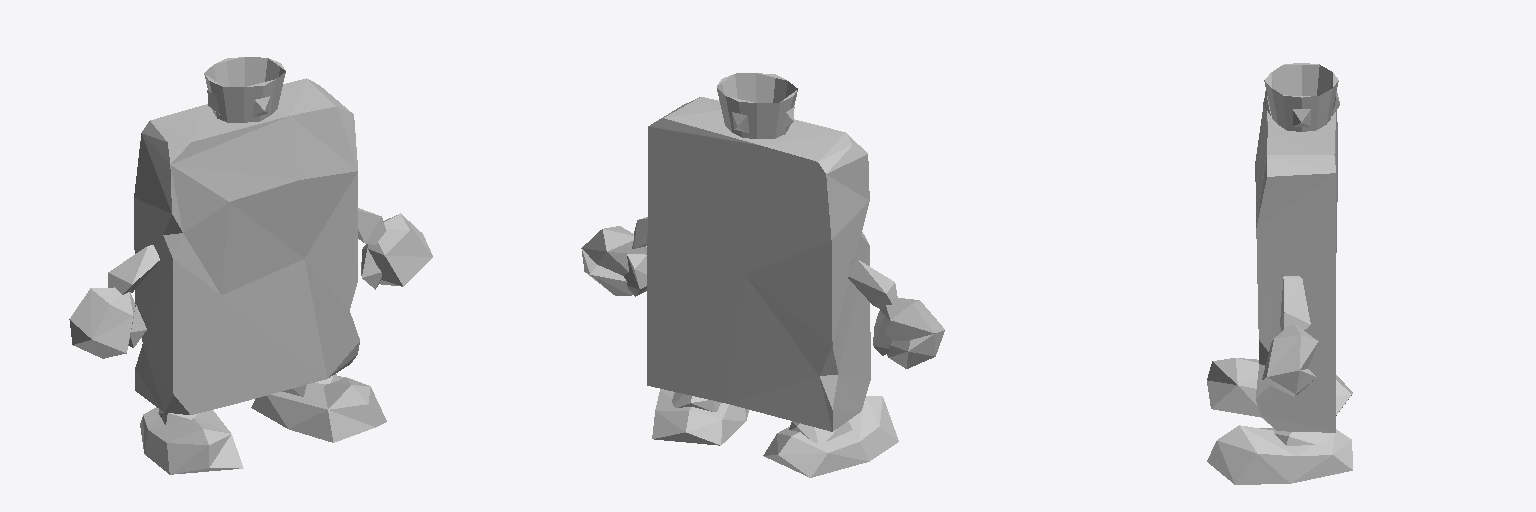
Rendered from BattanKing_Model.obj.
The picture shows the model from 3 angles: view 1: azimuth 30°, elevation 25°; view 2: azimuth 150°, elevation 25°; view 3: azimuth 270°, elevation 25°; orthographic projection.
Parts seen in each view (by area): view 1: skl_root, arm_r, leg_r, arm_l, leg_l; view 2: skl_root, leg_r, arm_r, arm_l, leg_l; view 3: skl_root, leg_l, leg_r, arm_l.
Part boxes in pixels (x1,y1,x2,y2): skl_root: (69, 57, 432, 474); arm_r: (70, 246, 159, 358); leg_r: (140, 409, 243, 474); arm_l: (358, 208, 432, 289); leg_l: (289, 375, 375, 442); skl_root: (581, 73, 944, 477); leg_r: (763, 398, 898, 477); arm_r: (848, 259, 944, 368); arm_l: (582, 217, 647, 295); leg_l: (652, 389, 748, 445); skl_root: (1207, 63, 1352, 484); leg_l: (1217, 425, 1352, 483); leg_r: (1207, 358, 1350, 417); arm_l: (1262, 276, 1318, 396).
Bounding box in the file's own units: 106 × 101 × 38.23.